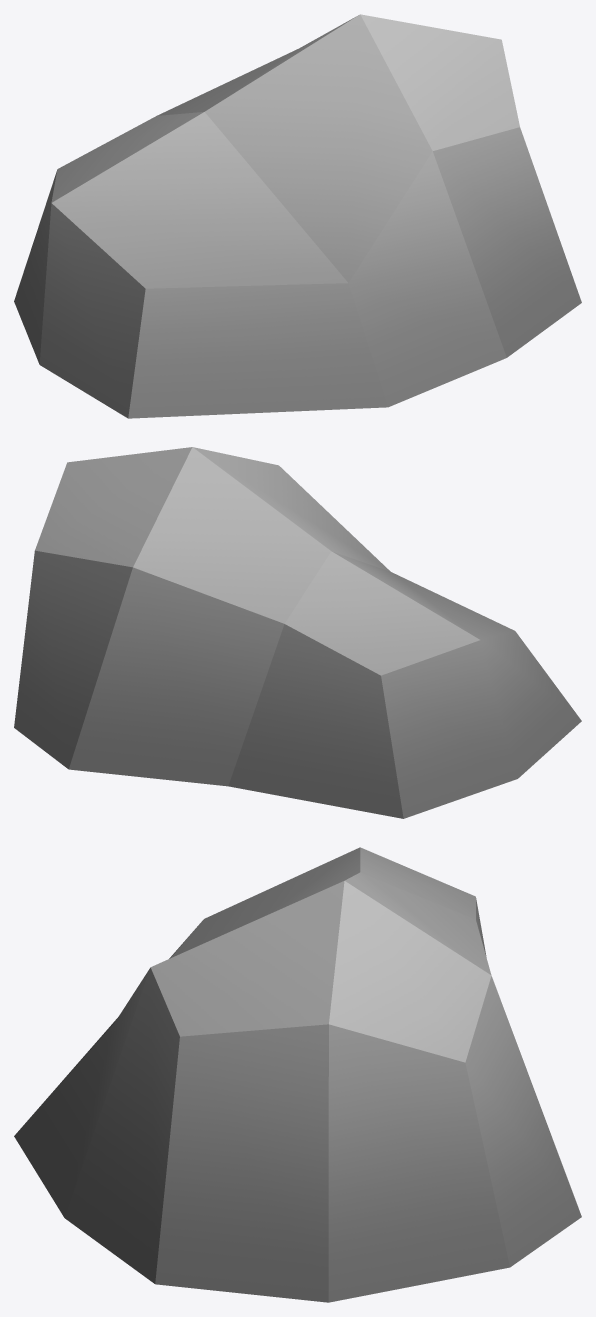
Rendered from Big Stone.fbx.
3 renders of one model, top to bottom at view 1: azimuth 30°, elevation 25°; view 2: azimuth 150°, elevation 25°; view 3: azimuth 270°, elevation 25°, orthographic. The views are drawn at different scales.
Parts seen in each view (by area): view 1: Big Stone; view 2: Big Stone; view 3: Big Stone.
Part boxes in pixels (x1,y1,x2,y2): Big Stone: [14, 14, 581, 418]; Big Stone: [14, 447, 581, 818]; Big Stone: [14, 847, 581, 1302].
Size of the model in its own units: 545 by 276 by 444.
1 material, 1 textured.
